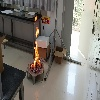fire: (31, 16, 41, 69)
